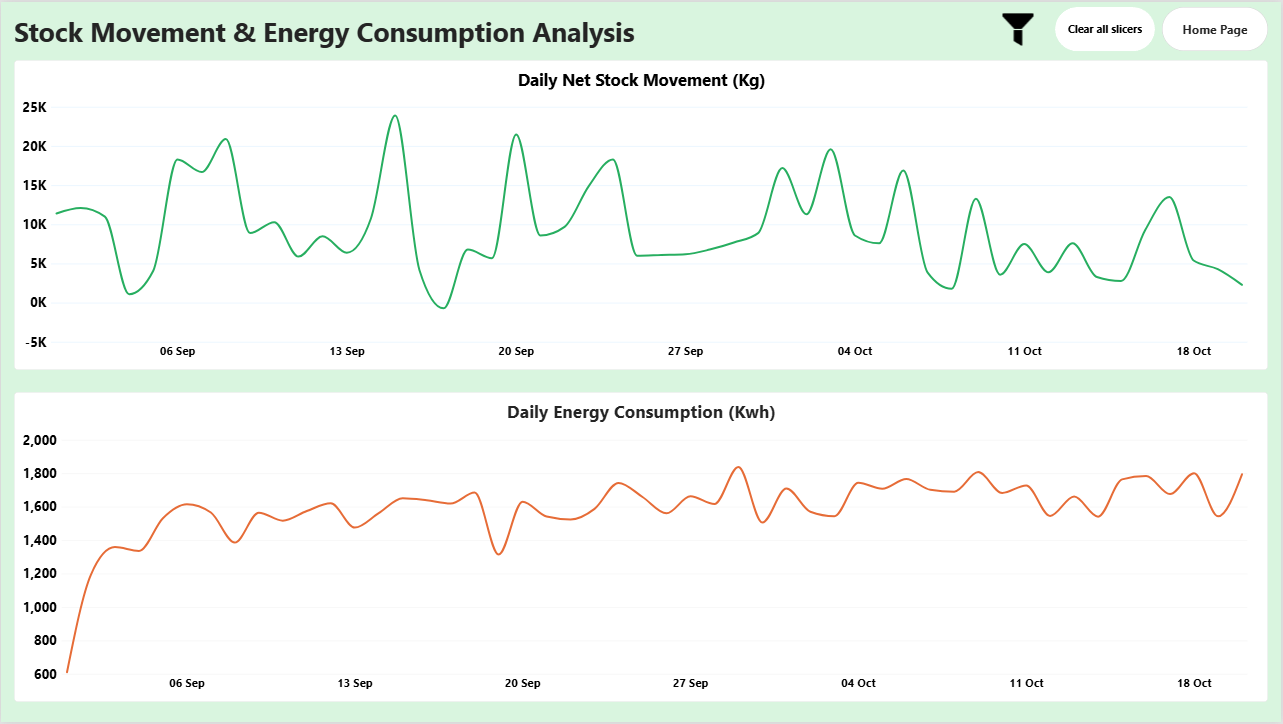

What the dashboard file says about the page in this screenshot:
{"tool":"powerbi","page":{"name":"Stock Movement & Energy Consumption Analysis","canvas":[2560,1440],"ordinal":1},"visuals":[{"type":"lineChart","title":"Daily Net Stock Movement (Kg)","fields":{"Category":["DimDate.Date"],"Y":["Sum(T_Stock_Ledger.Qty_Change_kg)"]},"box":[26,116,2508,620],"z":0},{"type":"lineChart","title":"Daily Energy Consumption (Kwh)","fields":{"Category":["DimDate.Date"],"Y":["Sum(T_Energy_Daily.Electricity_kWh)"]},"box":[26,780,2508,620],"z":1000},{"type":"textbox","box":[26,22,1254,94],"z":2000},{"type":"pageNavigator","box":[2322.9,10,212.9,88.6],"z":3000},{"type":"actionButton","box":[1975,16.7,116,76],"z":4000},{"type":"actionButton","box":[2107.1,10,200,88.6],"z":6000}]}

Visuals, with their boxes in screenshot pixels (x1, y1, x2, y2), scaled from the page's 2560x1440 canvas onto the 1283x724 screenshot:
"Daily Net Stock Movement (Kg)" lineChart: 13, 58, 1270, 370
"Daily Energy Consumption (Kwh)" lineChart: 13, 392, 1270, 704
textbox: 13, 11, 642, 58
pageNavigator: 1164, 5, 1271, 50
actionButton: 990, 8, 1048, 47
actionButton: 1056, 5, 1156, 50
